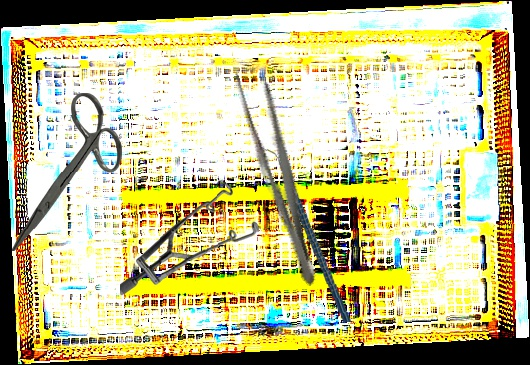Chopper: (259, 142, 353, 328)
Dressing Forceps: (228, 62, 331, 291)
Iris Scissors: (12, 91, 123, 253)
Speculum: (118, 181, 260, 297)
